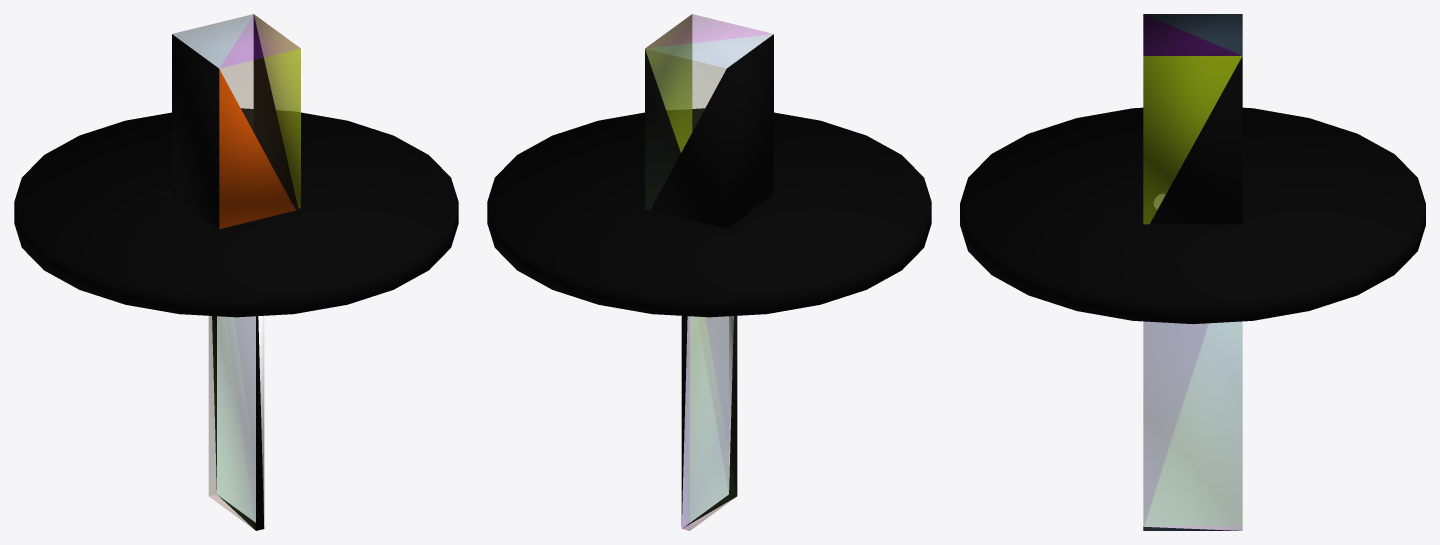
File: lid.obj
3 views of the same model, side by side, from view 1: azimuth 30°, elevation 25°; view 2: azimuth 150°, elevation 25°; view 3: azimuth 270°, elevation 25° (orthographic). The views are drawn at different scales.
Size of the model in its own units: 0.094 by 0.11 by 0.094.
